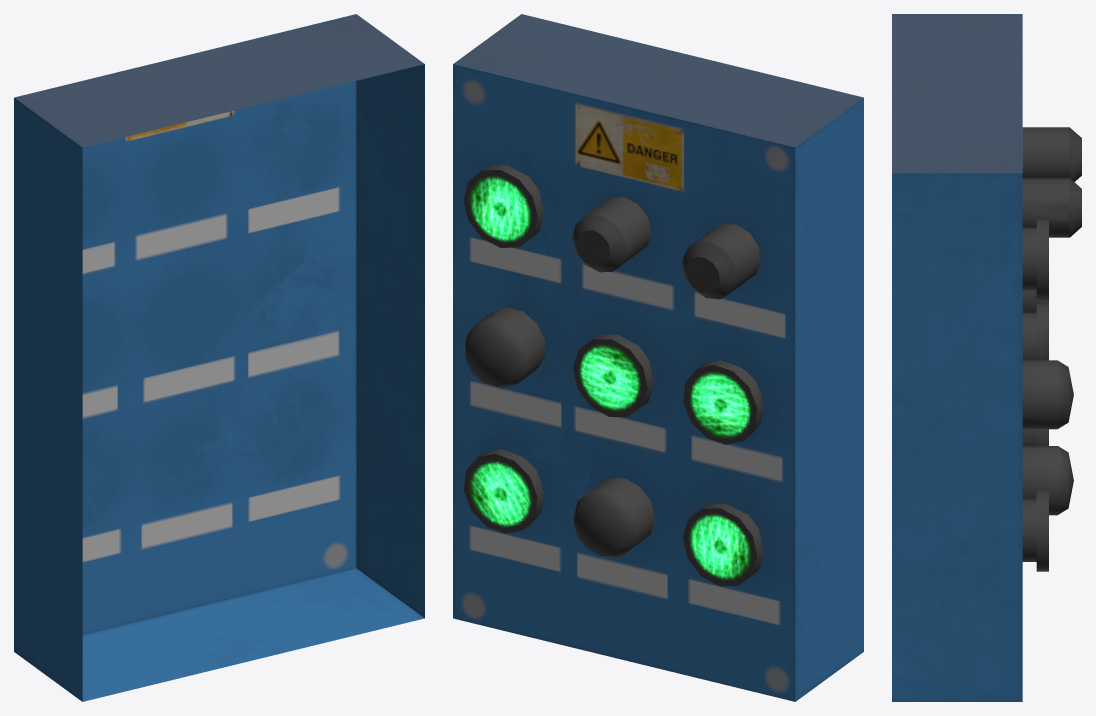
The model's file is CR_FusePaneA.fbx.
The picture shows the model from 3 angles, left to right: view 1: azimuth 30°, elevation 25°; view 2: azimuth 150°, elevation 25°; view 3: azimuth 270°, elevation 25°; orthographic projection. The views are drawn at different scales.
Visible parts, largest first — view 1: FusePaneA; view 2: FusePaneA; view 3: FusePaneA.
Part boxes in pixels (box(x1,y1,x2,y2)): FusePaneA: box(14, 14, 424, 701); FusePaneA: box(453, 14, 863, 701); FusePaneA: box(892, 14, 1081, 701).
Bounding box in the file's own units: 18.33 × 28.37 × 9.24.
